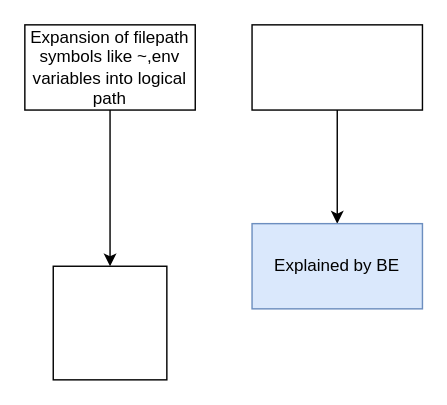
Image size: 447x405. Some labels were removed from this diagram. Each missing label, with the box of its shape:
Bash expands ~ to $HOME: (52, 265, 167, 380)
Creation of multiple directories at once: (251, 23, 422, 110)
